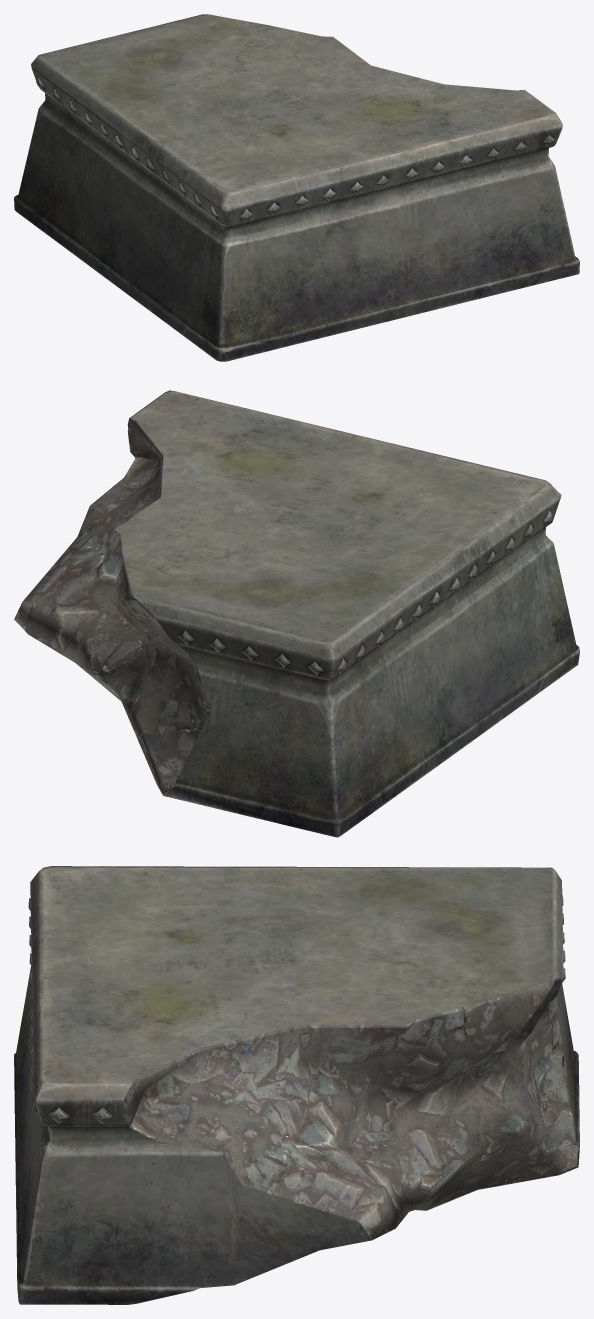
The picture shows the model from 3 angles, top to bottom: view 1: azimuth 30°, elevation 25°; view 2: azimuth 150°, elevation 25°; view 3: azimuth 270°, elevation 25°; orthographic projection. The views are drawn at different scales.
Parts seen in each view (by area): view 1: SM_SaradominTemple_Statue_01v2_LOD0; view 2: SM_SaradominTemple_Statue_01v2_LOD0; view 3: SM_SaradominTemple_Statue_01v2_LOD0.
Part boxes in pixels (x1=…): SM_SaradominTemple_Statue_01v2_LOD0: x1=14, y1=14, x2=579, y2=361; SM_SaradominTemple_Statue_01v2_LOD0: x1=14, y1=390, x2=579, y2=837; SM_SaradominTemple_Statue_01v2_LOD0: x1=14, y1=866, x2=579, y2=1304.
Size of the model in its own units: 5.16 by 2.13 by 5.16.
2 materials, 2 textured.
